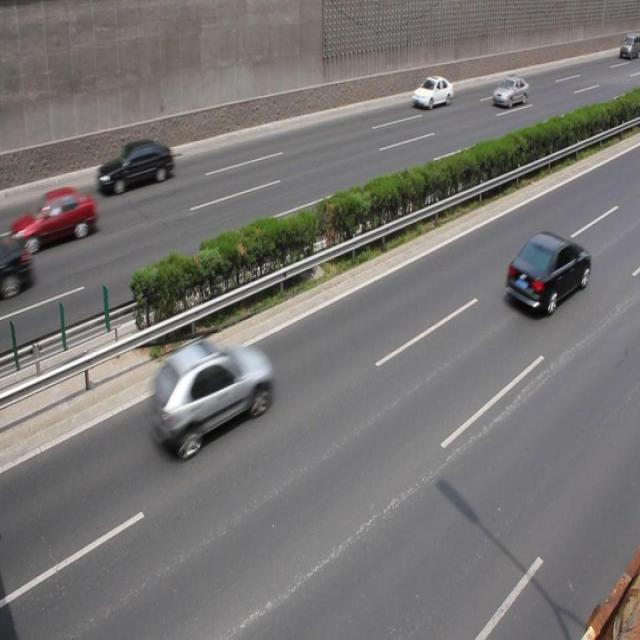car: (142, 339, 269, 462), (504, 232, 590, 316), (22, 188, 96, 252), (96, 141, 174, 197), (411, 74, 451, 110), (492, 76, 528, 108)
